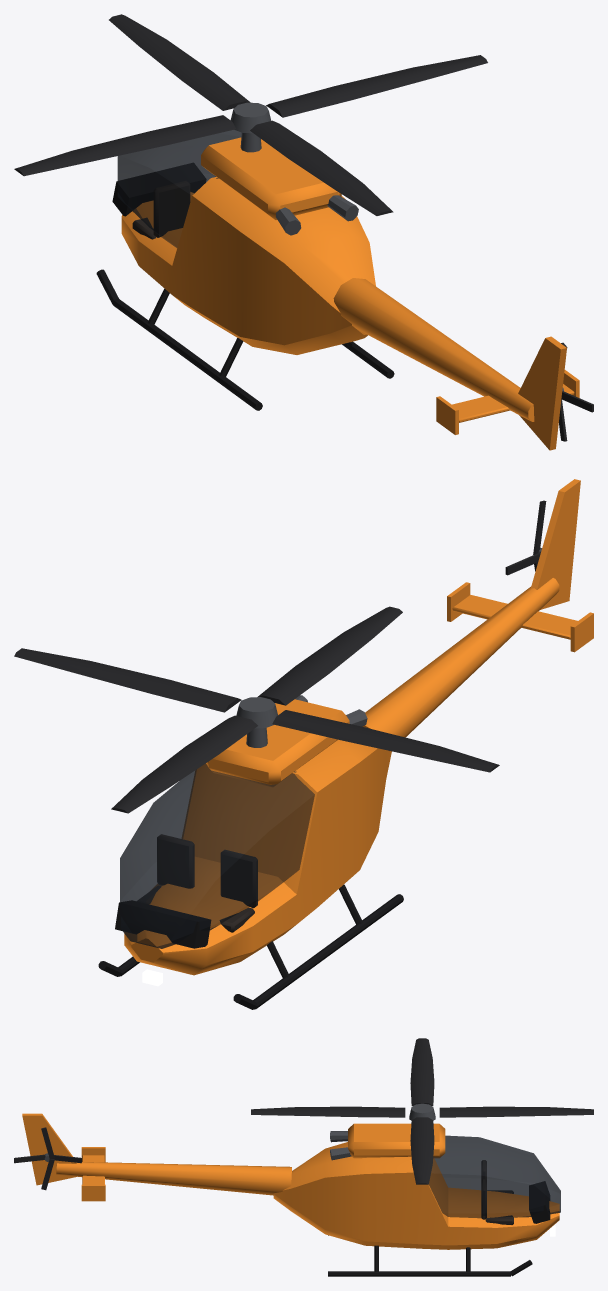
Rendered from heli.glb.
3 views of the same model, one above another, from view 1: azimuth 30°, elevation 25°; view 2: azimuth 150°, elevation 25°; view 3: azimuth 270°, elevation 25° (orthographic). The views are drawn at different scales.
Visible parts, largest first — view 1: Body.016, Rotor; view 2: Body.016, Rotor, TailRotor; view 3: Body.016, Rotor, TailRotor.
Part boxes in pixels (x1,y1,x2,y2): Body.016: (96, 130, 579, 450); Rotor: (14, 14, 487, 215); Body.016: (98, 479, 593, 1009); Rotor: (14, 606, 499, 813); TailRotor: (505, 500, 546, 575); Body.016: (22, 1113, 560, 1276); Rotor: (251, 1038, 593, 1184); TailRotor: (14, 1127, 81, 1190).
Bounding box in the file's own units: 6 × 2.85 × 10.14.
